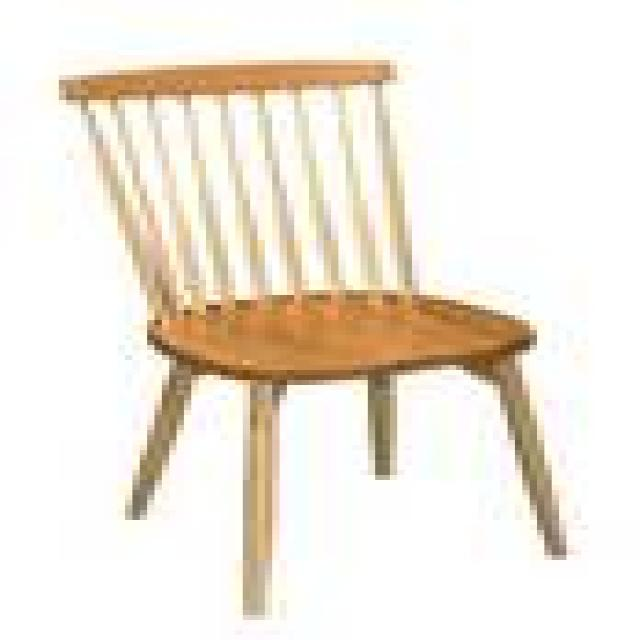chair: (51, 55, 566, 620)
